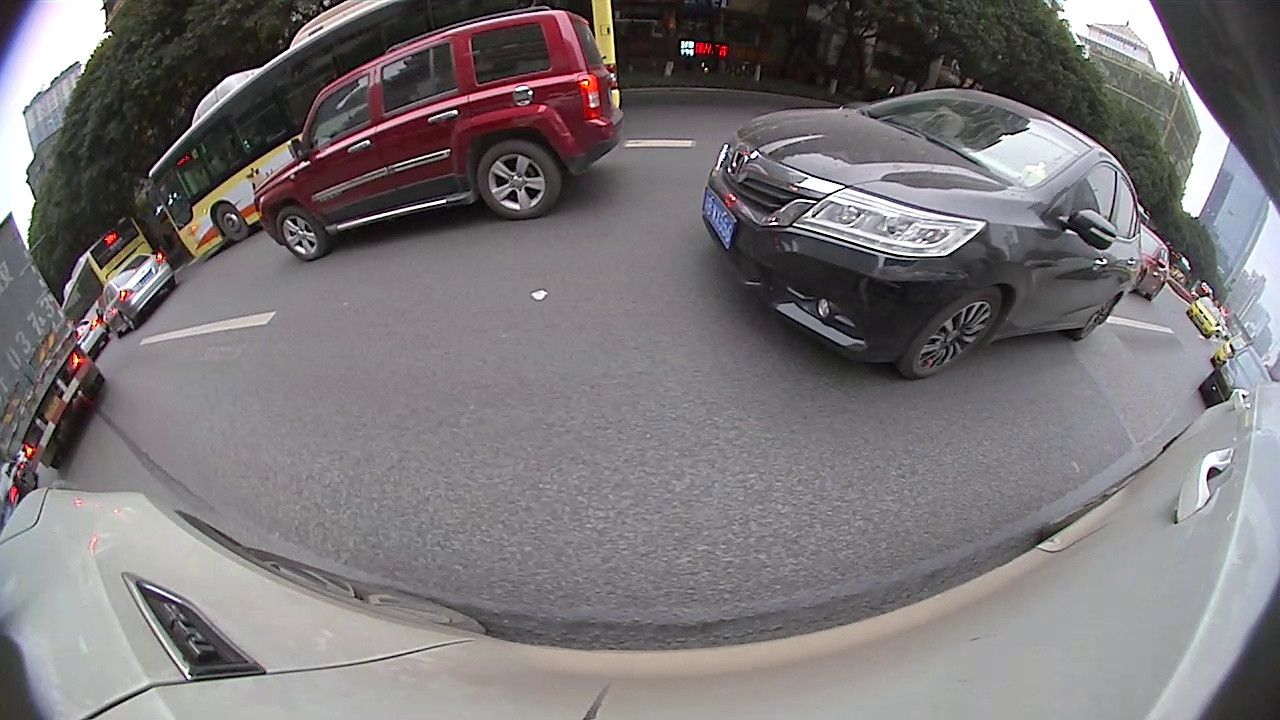bus: (150, 3, 621, 263), (61, 212, 144, 332)
car: (701, 84, 1139, 378), (256, 9, 627, 267), (94, 251, 180, 340), (1197, 350, 1270, 410), (1127, 221, 1172, 302), (1189, 296, 1224, 338)
front: (893, 284, 1003, 379), (275, 205, 334, 261), (215, 203, 251, 242)
rear: (476, 139, 562, 219), (119, 311, 139, 332)
truck: (0, 211, 109, 469)
